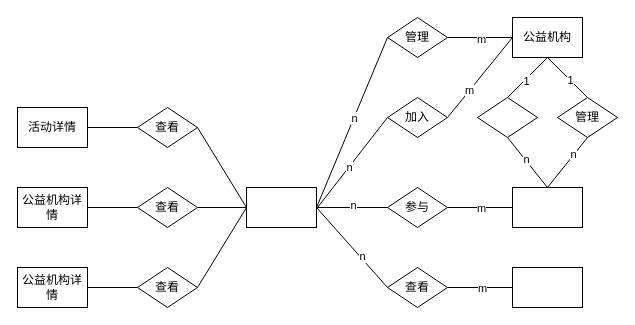
This 635x325 diagram has some shape labels left out. Here are the shapes that lost their labels. From the top down, the box of each, then its label:
(476, 96, 538, 138): 发布
(246, 186, 316, 228): 用户
(512, 186, 582, 228): 活动
(512, 266, 582, 308): 我加入的机构
